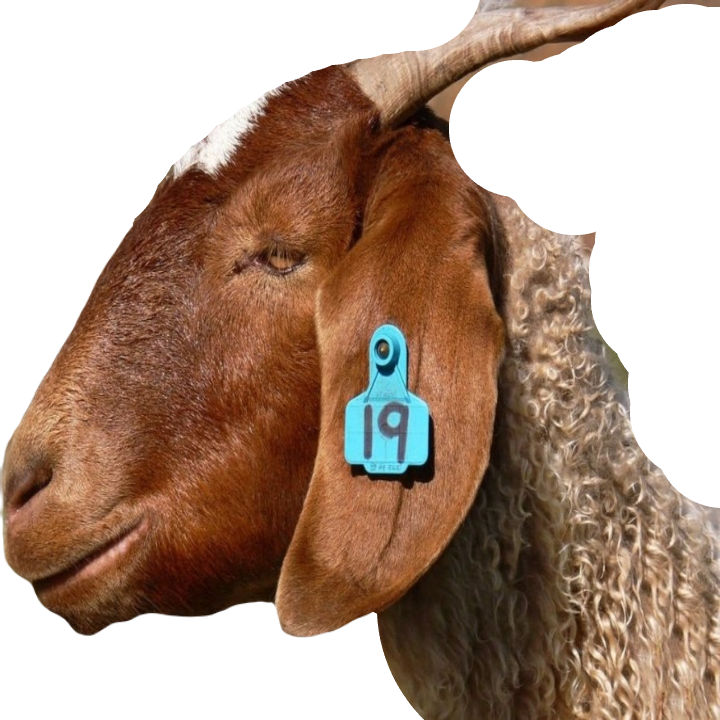Goat: (0, 0, 719, 720)
